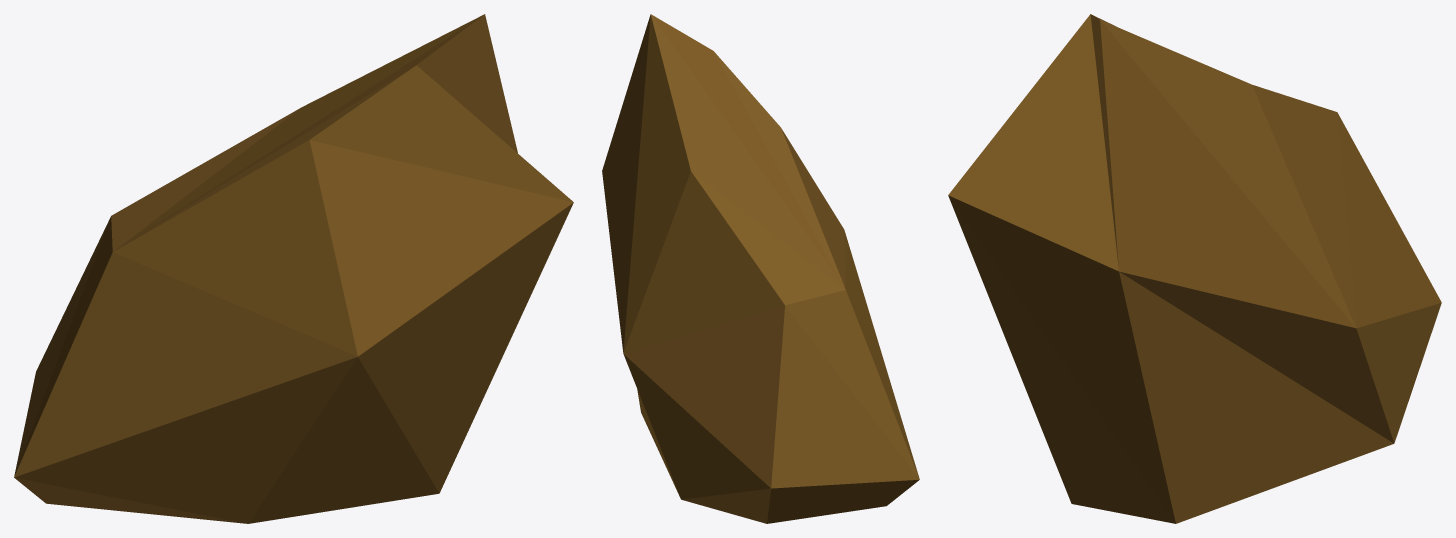
File: inv_rock_sample_3.obj
3 views of the same model, side by side, from view 1: azimuth 30°, elevation 25°; view 2: azimuth 150°, elevation 25°; view 3: azimuth 270°, elevation 25° (orthographic). The views are drawn at different scales.
Size of the model in its own units: 0.4844 by 0.4688 by 0.4062.
